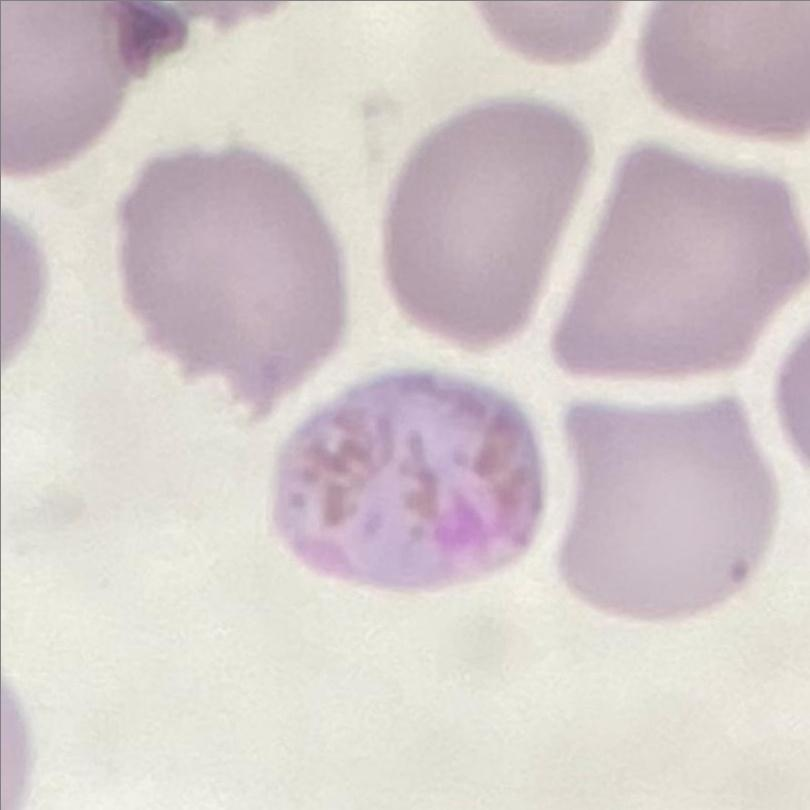Infected: (260, 375, 549, 592)
Uninfected: (554, 131, 809, 372), (124, 141, 349, 400), (556, 387, 779, 623), (382, 103, 588, 350)
